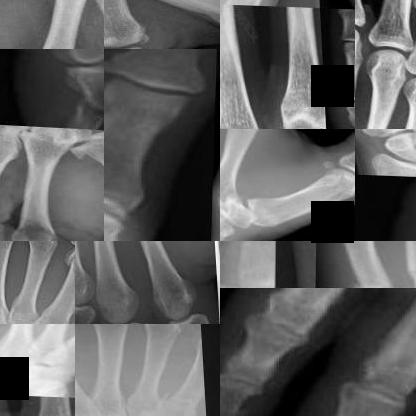fracture: (62, 71, 103, 128), (346, 260, 396, 287), (153, 386, 199, 415), (69, 132, 103, 161), (401, 247, 415, 288), (62, 248, 74, 287)
